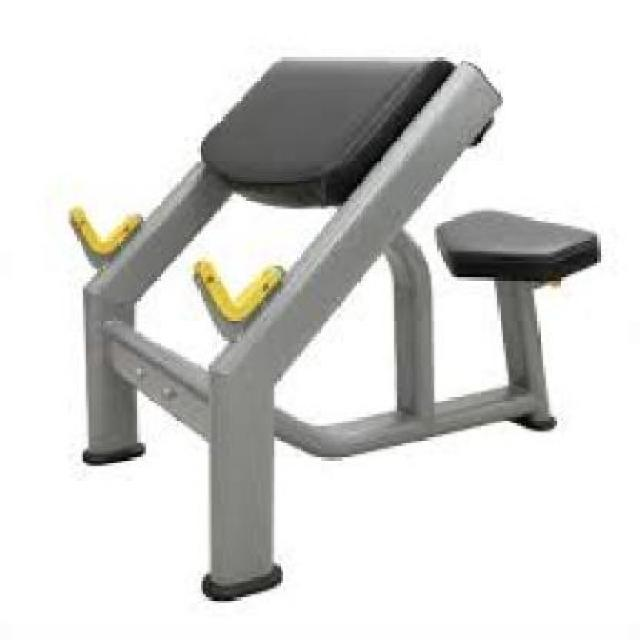arm curl machine: (68, 55, 603, 603)
